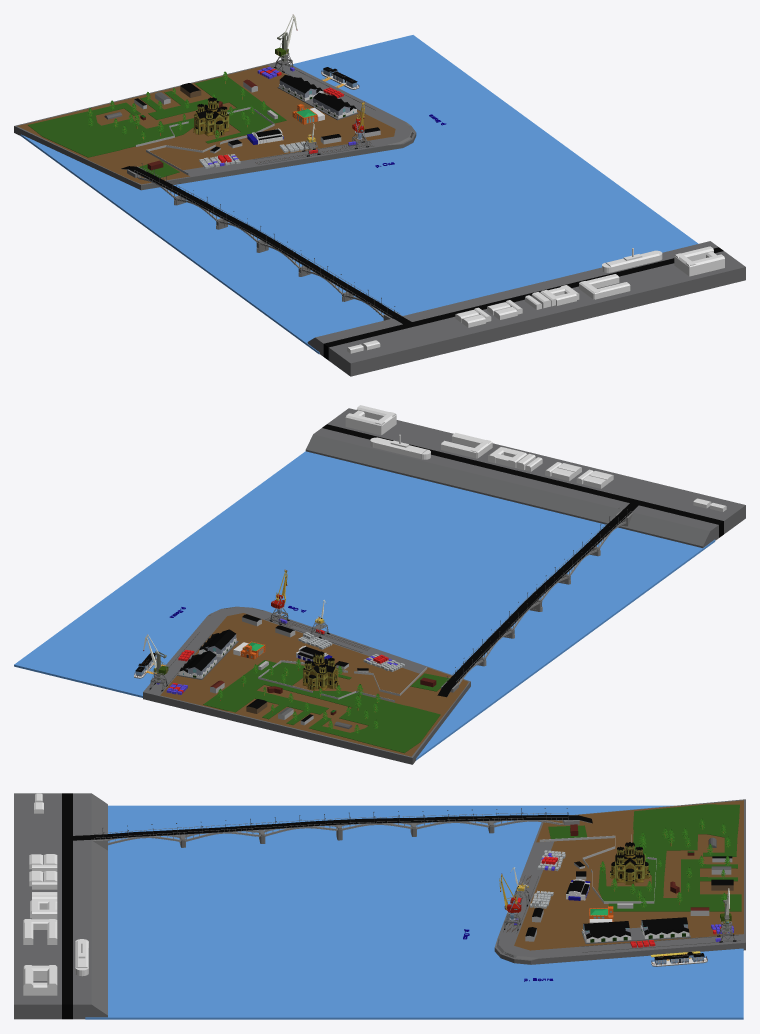
File: map.glb
3 views of the same model, one above another, from view 1: azimuth 30°, elevation 25°; view 2: azimuth 150°, elevation 25°; view 3: azimuth 270°, elevation 25° (orthographic). The views are drawn at different scales.
Parts seen in each view (by area): view 1: Plane, Cube, Cube.021, Cube.010, асфальт, Cube.001, Cube.015, железо, Plane.002, камень, главная пк, главная пк.001; view 2: Plane, Cube.021, Cube, Cube.010, асфальт, Cube.001, Cube.015, железо, Plane.002; view 3: Plane, Cube, Cube.021, Cube.010, асфальт, Cube.001, железо, Cube.015, Plane.002, камень, башни 4, главная пк (+7 smaller).
Part boxes in pixels (x1,y1,x2,y2): Plane: (20,35,698,354); Cube: (14,62,416,190); Cube.021: (307,241,745,376); Cube.010: (28,102,140,157); асфальт: (121,166,401,318); Cube.001: (88,108,262,148); Cube.015: (194,76,286,125); железо: (134,163,399,317); Plane.002: (135,107,274,174); камень: (127,166,401,320); главная пк: (312,92,350,118); главная пк.001: (279,75,328,113); Plane: (14,451,715,760); Cube.021: (305,408,745,548); Cube: (143,606,470,764); Cube.010: (309,705,440,753); асфальт: (437,510,632,697); Cube.001: (264,666,402,728); Cube.015: (203,660,288,712); железо: (446,508,631,684); Plane.002: (258,660,426,702); Plane: (85,805,743,1019); Cube: (494,799,745,964); Cube.021: (14,793,107,1019); Cube.010: (633,804,739,856); асфальт: (90,815,592,840); Cube.001: (606,826,697,898); железо: (93,808,568,845); Cube.015: (608,885,741,911); Plane.002: (539,834,656,903); камень: (92,814,579,850); башни 4: (616,846,643,882); главная пк: (582,921,629,938).
Bounding box in the file's own units: 357 × 49.79 × 520.
